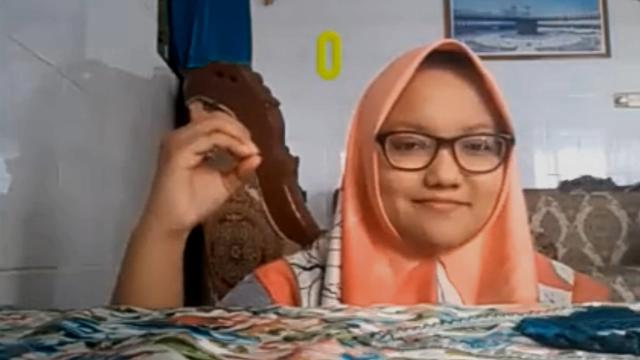O: (132, 111, 266, 231)
